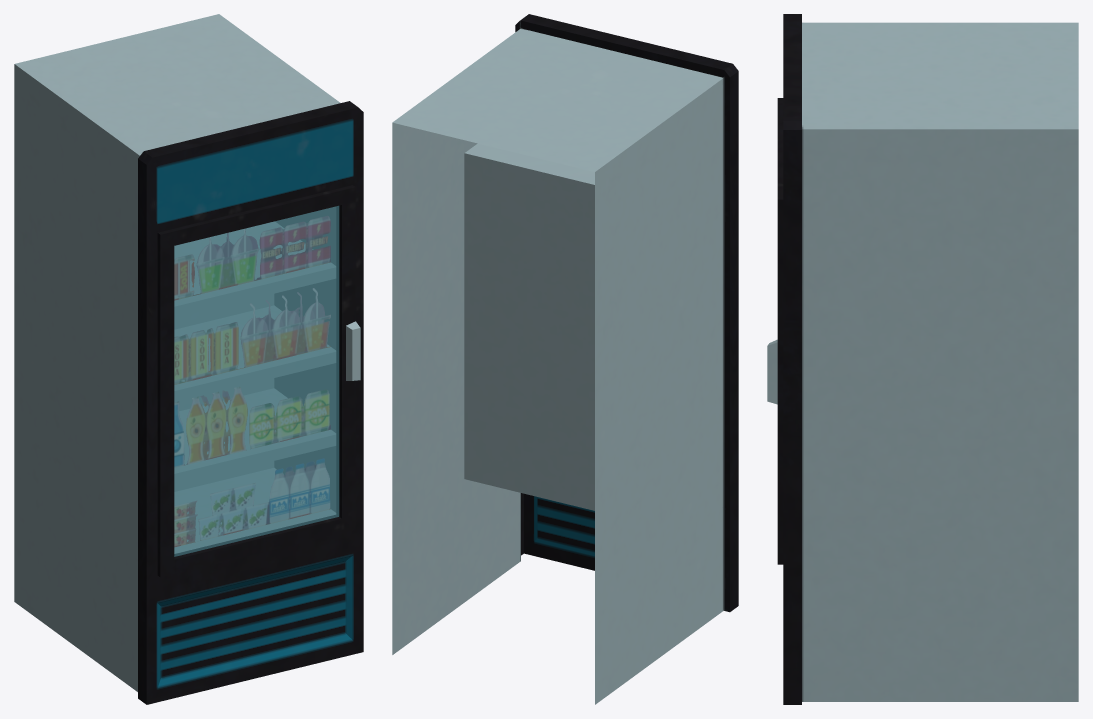
File: RefrigeratorSingleDoor.fbx
3 views of the same model, side by side, from view 1: azimuth 30°, elevation 25°; view 2: azimuth 150°, elevation 25°; view 3: azimuth 270°, elevation 25° (orthographic). The views are drawn at different scales.
Parts seen in each view (by area): view 1: RefrigeratorSingleDoor; view 2: RefrigeratorSingleDoor; view 3: RefrigeratorSingleDoor.
Boxes of the visible parts, x1,y1,x2,y2 form: RefrigeratorSingleDoor: (14, 14, 363, 704); RefrigeratorSingleDoor: (392, 14, 738, 704); RefrigeratorSingleDoor: (767, 14, 1078, 704).
Bounding box in the file's own units: 94.99 × 229 × 111.
